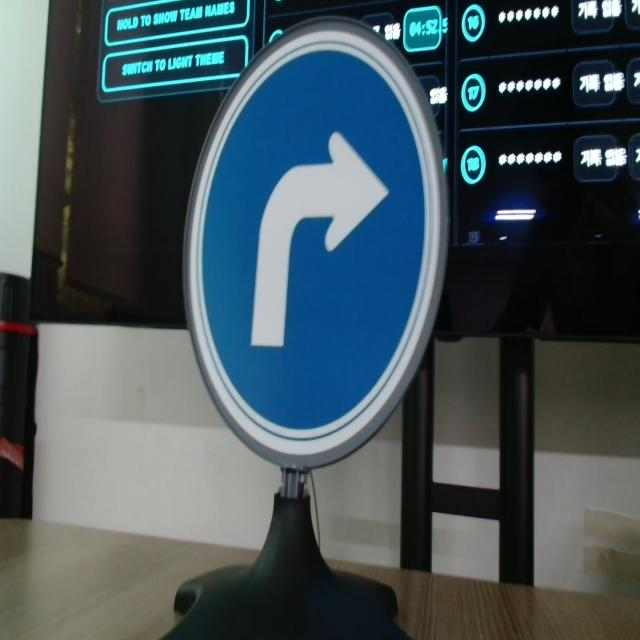right_dierection: (175, 3, 453, 463)
